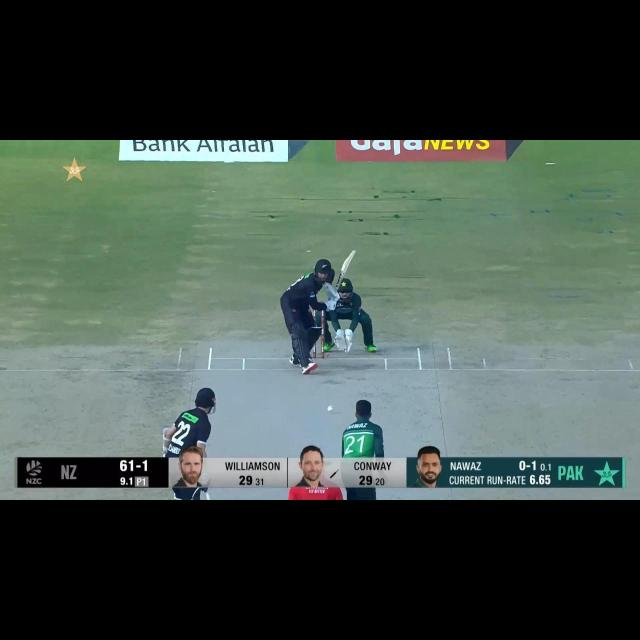bat: (334, 250, 356, 290), (203, 490, 212, 500)
toe: (350, 249, 356, 258)
